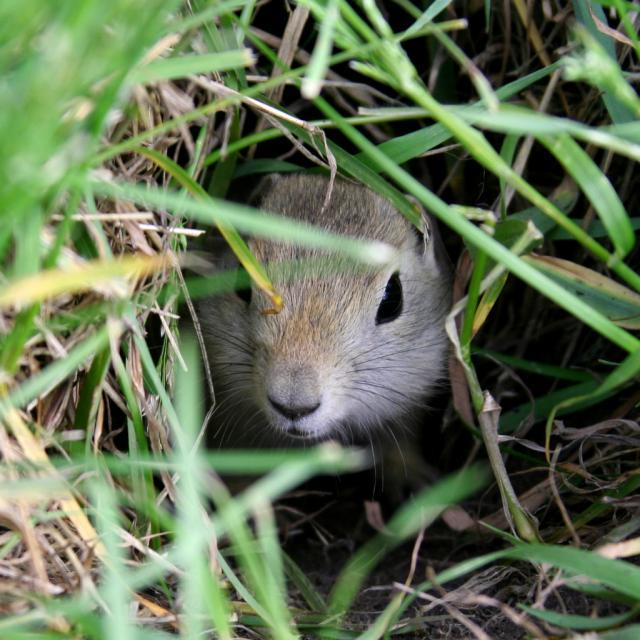rat: (193, 170, 455, 446)
